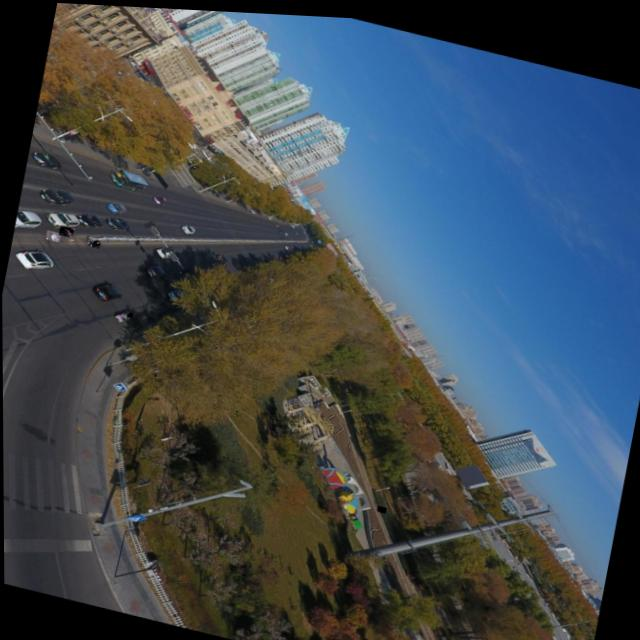Person: (44, 229, 59, 242), (58, 224, 73, 236), (86, 237, 99, 248), (56, 227, 69, 237), (375, 501, 385, 510), (125, 311, 132, 317)
